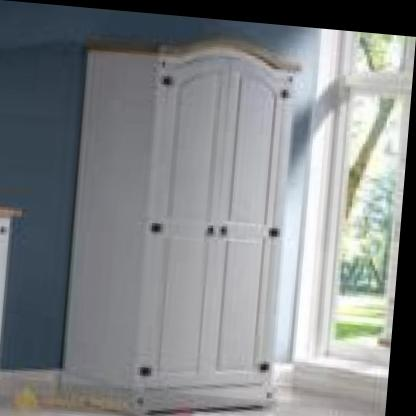Closet: (55, 18, 316, 416)
